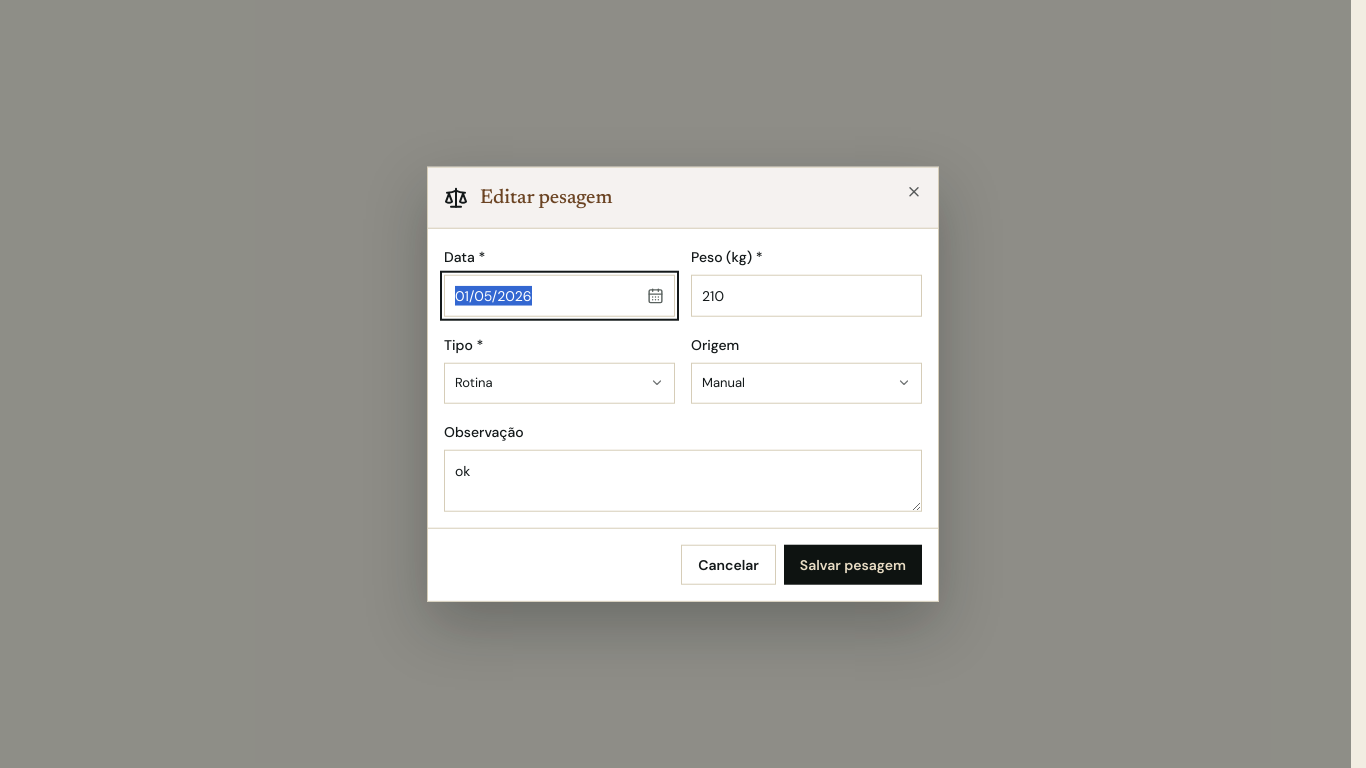
Test case: FormPesagem — edição › mostra o erro de campo devolvido pela API
This screenshot has width=1366, height=768.
Click the button "Salvar pesagem" at (853, 564), box [784, 544, 922, 584]
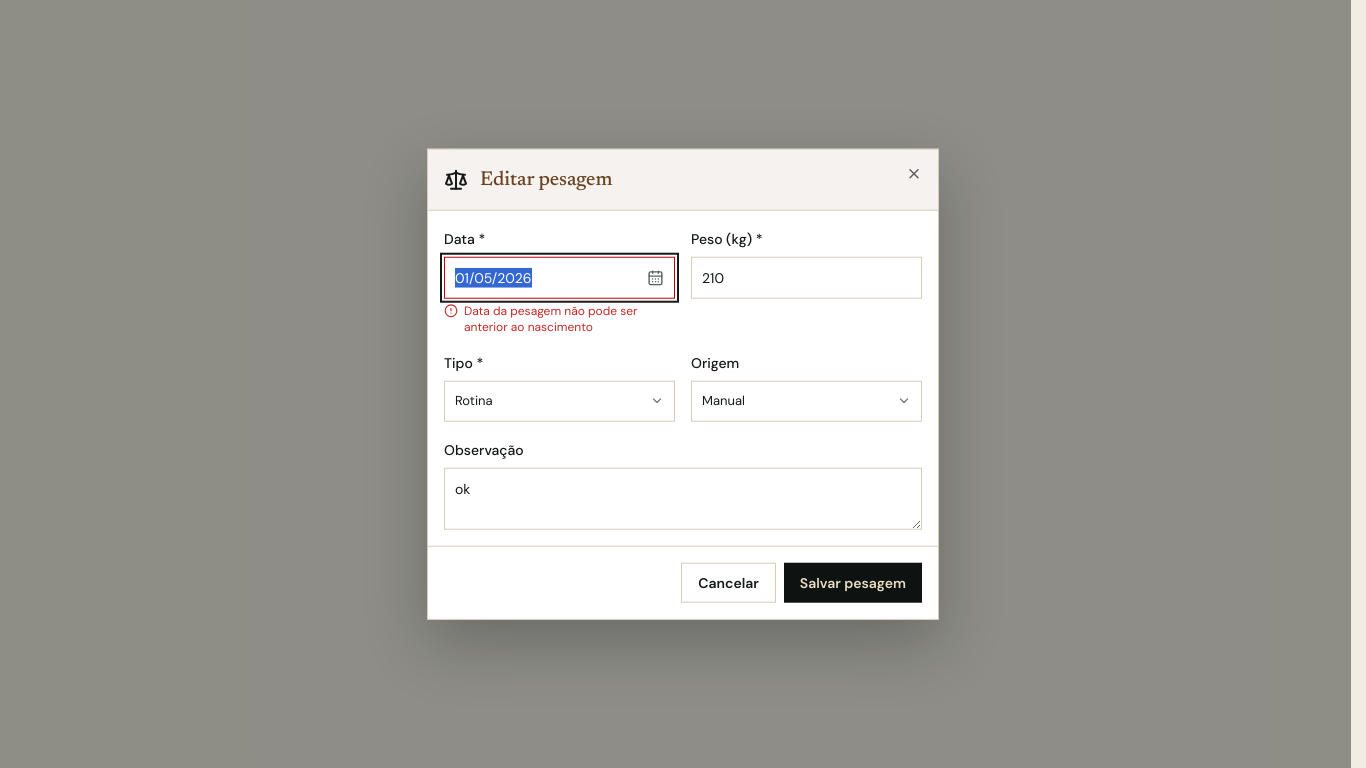
Check: the text "Data da pesagem não pode ser anterior ao nascimento" is shown, box [444, 303, 638, 335]
